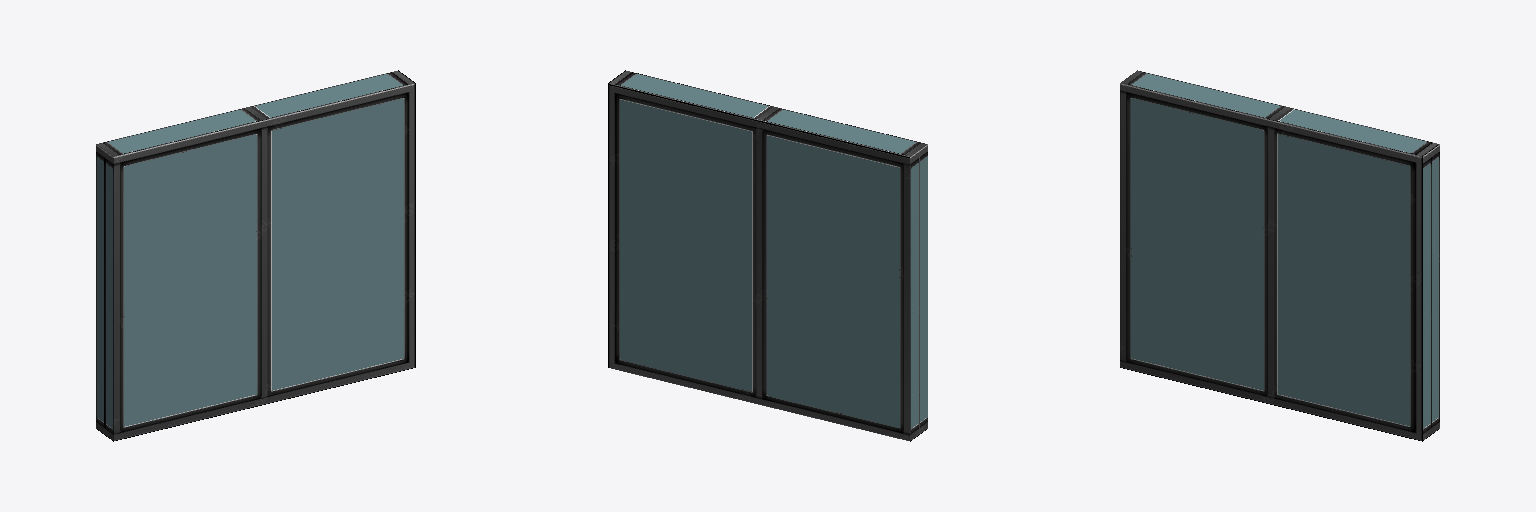
3 renders of one model, left to right at view 1: azimuth 30°, elevation 25°; view 2: azimuth 150°, elevation 25°; view 3: azimuth 330°, elevation 25°, orthographic.
Visible parts, largest first — view 1: house:pCube33; view 2: house:pCube33; view 3: house:pCube33.
Part boxes in pixels (x1,y1,x2,y2): house:pCube33: (96,70,415,441); house:pCube33: (608,70,927,441); house:pCube33: (1120,70,1439,441).
Size of the model in its own units: 100 by 90 by 10.
Materials: 1 (1 with a texture image).